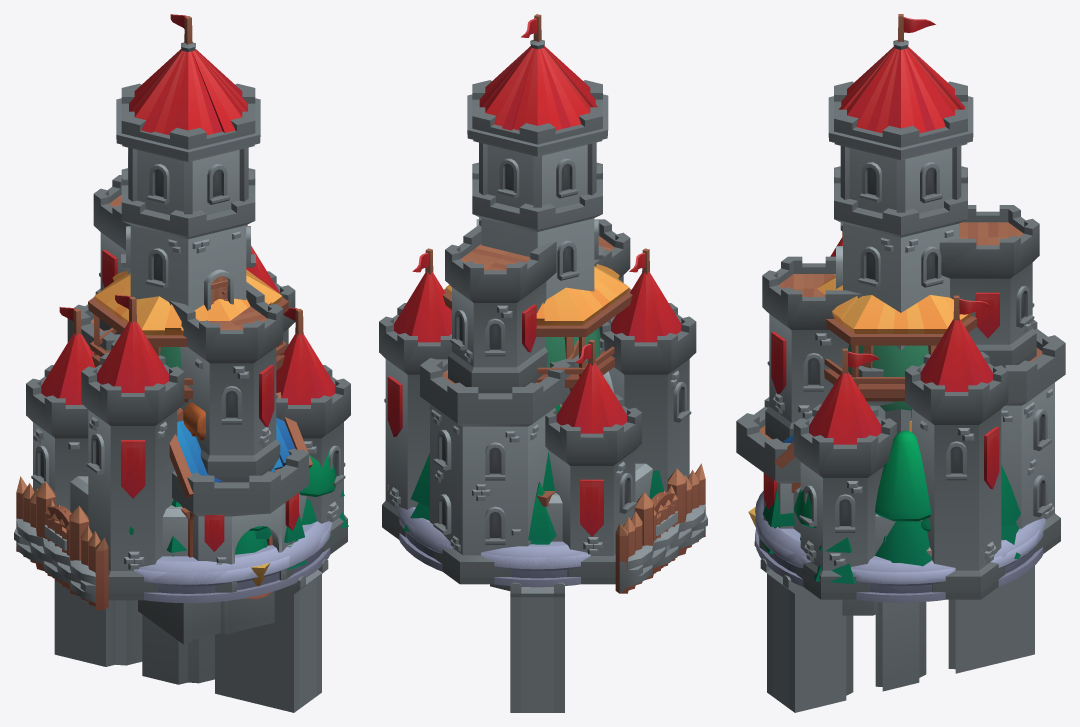
Rendered from village.glb.
3 renders of one model, left to right at view 1: azimuth 30°, elevation 25°; view 2: azimuth 150°, elevation 25°; view 3: azimuth 270°, elevation 25°, orthographic. The views are drawn at different scales.
Visible parts, largest first — view 1: building_castle_red, building_bridge_A, building_watermill_blue, fountain_round_detail, building_tower_B_yellow, fence_wood_straight_gate, fountain_round, fence_stone_straight, fence_wood_straight, trees_B_large, trees_A_large, building_lumbermill_green; view 2: building_castle_red, building_bridge_A, building_tower_B_yellow, fountain_round_detail, fountain_round, fence_stone_straight, fence_wood_straight_gate, fence_wood_straight, trees_A_large, tree_high_round; view 3: building_castle_red, building_bridge_A, building_tower_B_yellow, trees_B_medium, fountain_round_detail, fountain_round, trees_A_large, tree_high_round, building_watermill_blue, trees_B_large.
Boxes of the visible parts, x1=… form: building_castle_red: x1=26, y1=14, x2=350, y2=600; building_bridge_A: x1=54, y1=559, x2=328, y2=712; building_watermill_blue: x1=138, y1=392, x2=312, y2=644; fountain_round_detail: x1=134, y1=521, x2=331, y2=603; building_tower_B_yellow: x1=88, y1=269, x2=288, y2=402; fence_wood_straight_gate: x1=35, y1=481, x2=108, y2=609; fountain_round: x1=134, y1=522, x2=332, y2=603; fence_stone_straight: x1=14, y1=518, x2=95, y2=602; fence_wood_straight: x1=16, y1=476, x2=105, y2=609; trees_B_large: x1=129, y1=451, x2=336, y2=554; trees_A_large: x1=166, y1=490, x2=348, y2=570; building_lumbermill_green: x1=183, y1=401, x2=205, y2=440; building_castle_red: x1=379, y1=14, x2=696, y2=584; building_bridge_A: x1=510, y1=582, x2=564, y2=712; building_tower_B_yellow: x1=442, y1=264, x2=632, y2=391; fountain_round_detail: x1=397, y1=507, x2=590, y2=587; fountain_round: x1=397, y1=507, x2=590, y2=587; fence_stone_straight: x1=619, y1=504, x2=707, y2=593; fence_wood_straight_gate: x1=615, y1=468, x2=699, y2=593; fence_wood_straight: x1=619, y1=463, x2=705, y2=593; trees_A_large: x1=403, y1=453, x2=663, y2=544; tree_high_round: x1=545, y1=328, x2=600, y2=367; building_castle_red: x1=736, y1=14, x2=1065, y2=599; building_bridge_A: x1=760, y1=558, x2=1034, y2=712; building_tower_B_yellow: x1=817, y1=275, x2=977, y2=432; trees_B_medium: x1=875, y1=430, x2=932, y2=566; fountain_round_detail: x1=755, y1=491, x2=1045, y2=597; fountain_round: x1=755, y1=511, x2=1045, y2=602; trees_A_large: x1=759, y1=464, x2=1020, y2=583; tree_high_round: x1=848, y1=344, x2=928, y2=411; building_watermill_blue: x1=774, y1=434, x2=878, y2=615; trees_B_large: x1=794, y1=489, x2=930, y2=572.
Size of the model in its own units: 2.1 by 4.98 by 2.26.
Materials: 3 (2 with a texture image).
